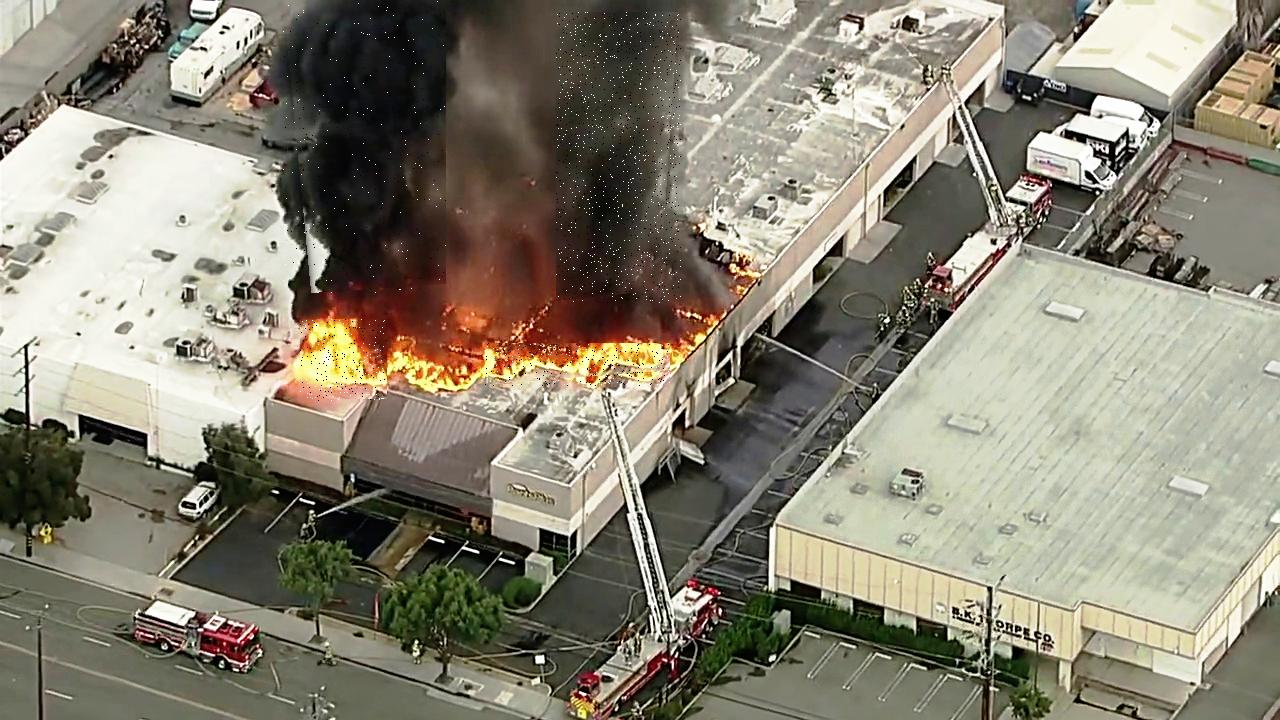fire: (485, 344, 670, 387), (300, 320, 387, 402)
smoke: (283, 0, 446, 293), (557, 12, 682, 303)
